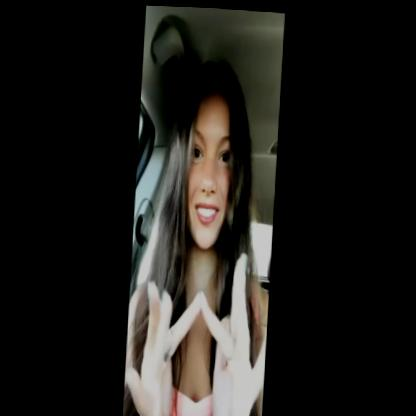Internet: (128, 229, 273, 416)
